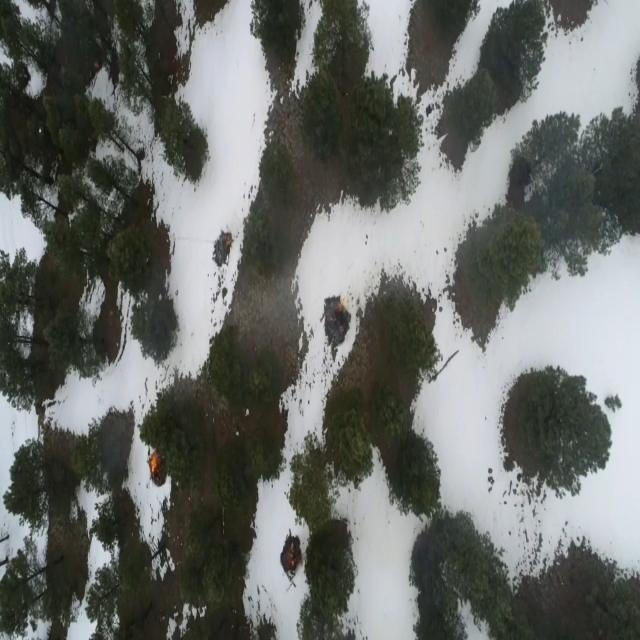Fire: (326, 292, 350, 340), (148, 440, 172, 488), (280, 532, 306, 572)
